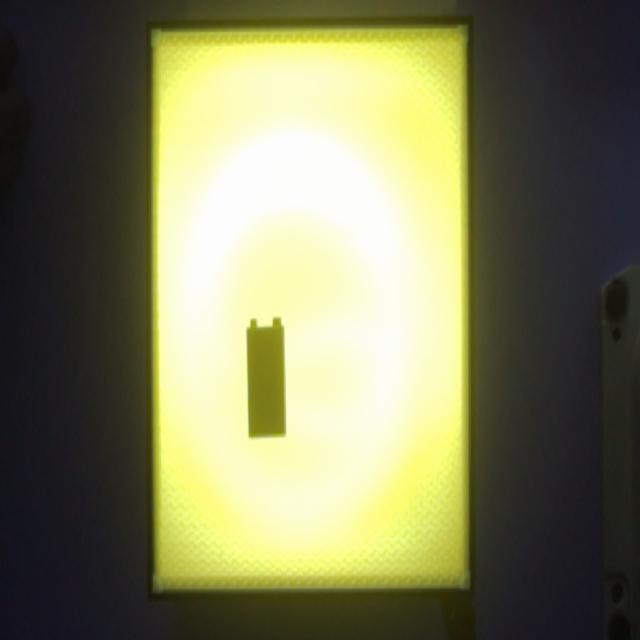bateria: (245, 317, 285, 438)
mesa: (146, 16, 476, 600)
